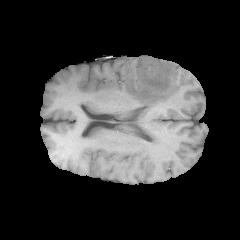glioma: (124, 57, 180, 107)
